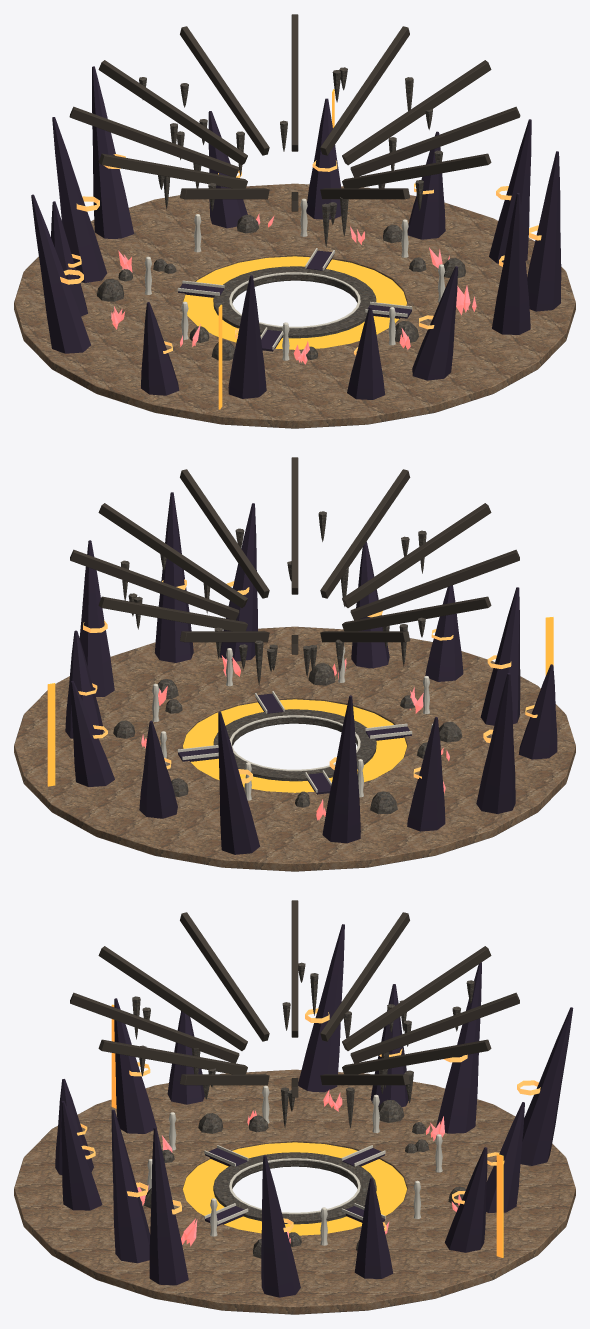
The model's file is underworld.glb.
3 renders of one model, top to bottom at view 1: azimuth 30°, elevation 25°; view 2: azimuth 150°, elevation 25°; view 3: azimuth 270°, elevation 25°, orthographic.
Visible parts, largest first — view 1: M_uw_rock, M_uw_obsidian, M_uw_basalt, M_uw_lava, M_uw_bone, M_uw_crystal, M_uw_ember; view 2: M_uw_rock, M_uw_obsidian, M_uw_basalt, M_uw_lava, M_uw_bone, M_uw_ember, M_uw_crystal; view 3: M_uw_rock, M_uw_obsidian, M_uw_basalt, M_uw_lava, M_uw_bone, M_uw_ember, M_uw_crystal.
Part boxes in pixels (box(x1,y1,x2,y2)): M_uw_rock: box(14, 183, 575, 428); M_uw_obsidian: box(31, 66, 561, 399); M_uw_basalt: box(69, 14, 520, 360); M_uw_lava: box(183, 89, 406, 409); M_uw_bone: box(144, 198, 445, 360); M_uw_crystal: box(111, 213, 476, 364); M_uw_ember: box(60, 154, 541, 355); M_uw_rock: box(14, 626, 575, 871); M_uw_obsidian: box(65, 492, 557, 854); M_uw_basalt: box(70, 457, 519, 814); M_uw_lava: box(47, 617, 553, 792); M_uw_bone: box(152, 646, 432, 800); M_uw_ember: box(78, 579, 537, 783); M_uw_crystal: box(141, 655, 449, 820); M_uw_rock: box(14, 1069, 575, 1314); M_uw_obsidian: box(55, 924, 573, 1297); M_uw_basalt: box(70, 900, 519, 1258); M_uw_lava: box(111, 1004, 503, 1257); M_uw_bone: box(147, 1085, 442, 1245); M_uw_ember: box(77, 1008, 540, 1232); M_uw_crystal: box(137, 1089, 461, 1246).
Size of what is drawn, in the model's own units: 44 by 17.48 by 44.
7 materials, 2 textured.
